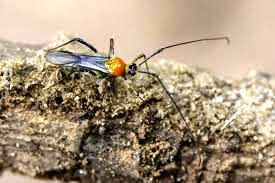Helopeltis-insect: (42, 45, 144, 87)
